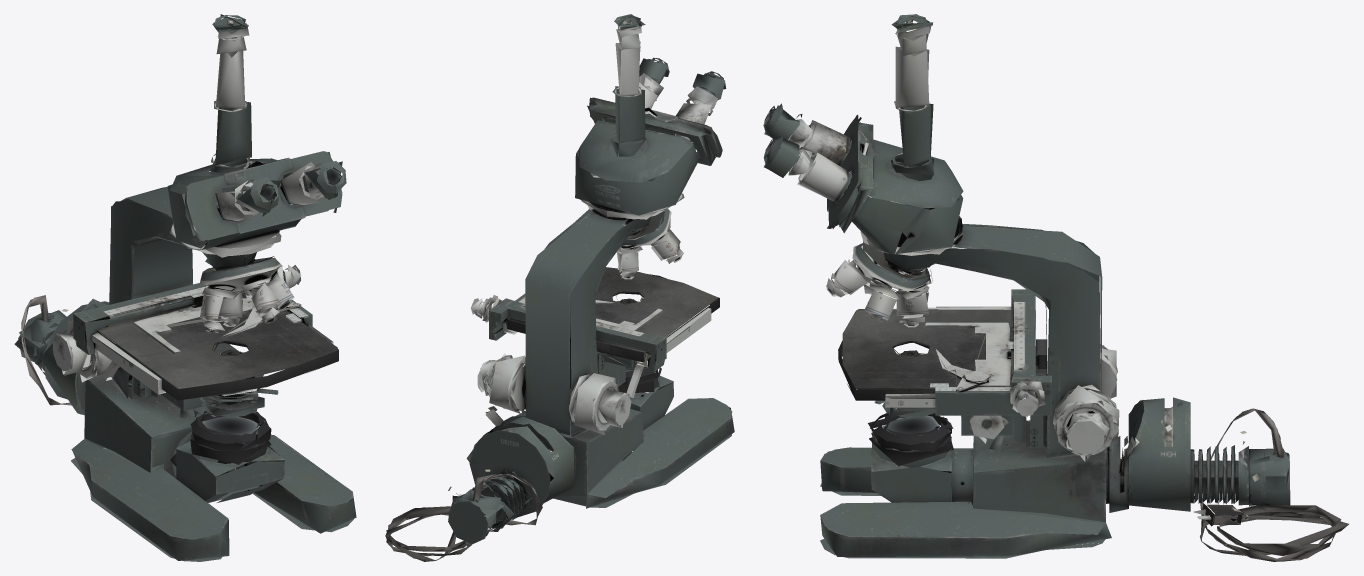
The model's file is microscope.glb.
3 renders of one model, left to right at view 1: azimuth 30°, elevation 25°; view 2: azimuth 150°, elevation 25°; view 3: azimuth 270°, elevation 25°, orthographic. The views are drawn at different scales.
Visible parts, largest first — view 1: university/microscope; view 2: university/microscope; view 3: university/microscope.
Part boxes in pixels (x1,y1,x2,y2): university/microscope: (14, 14, 356, 561); university/microscope: (385, 14, 734, 561); university/microscope: (763, 14, 1348, 561).
Bounding box in the file's own units: 0.2145 × 0.464 × 0.497.
Materials: 1 (1 with a texture image).
